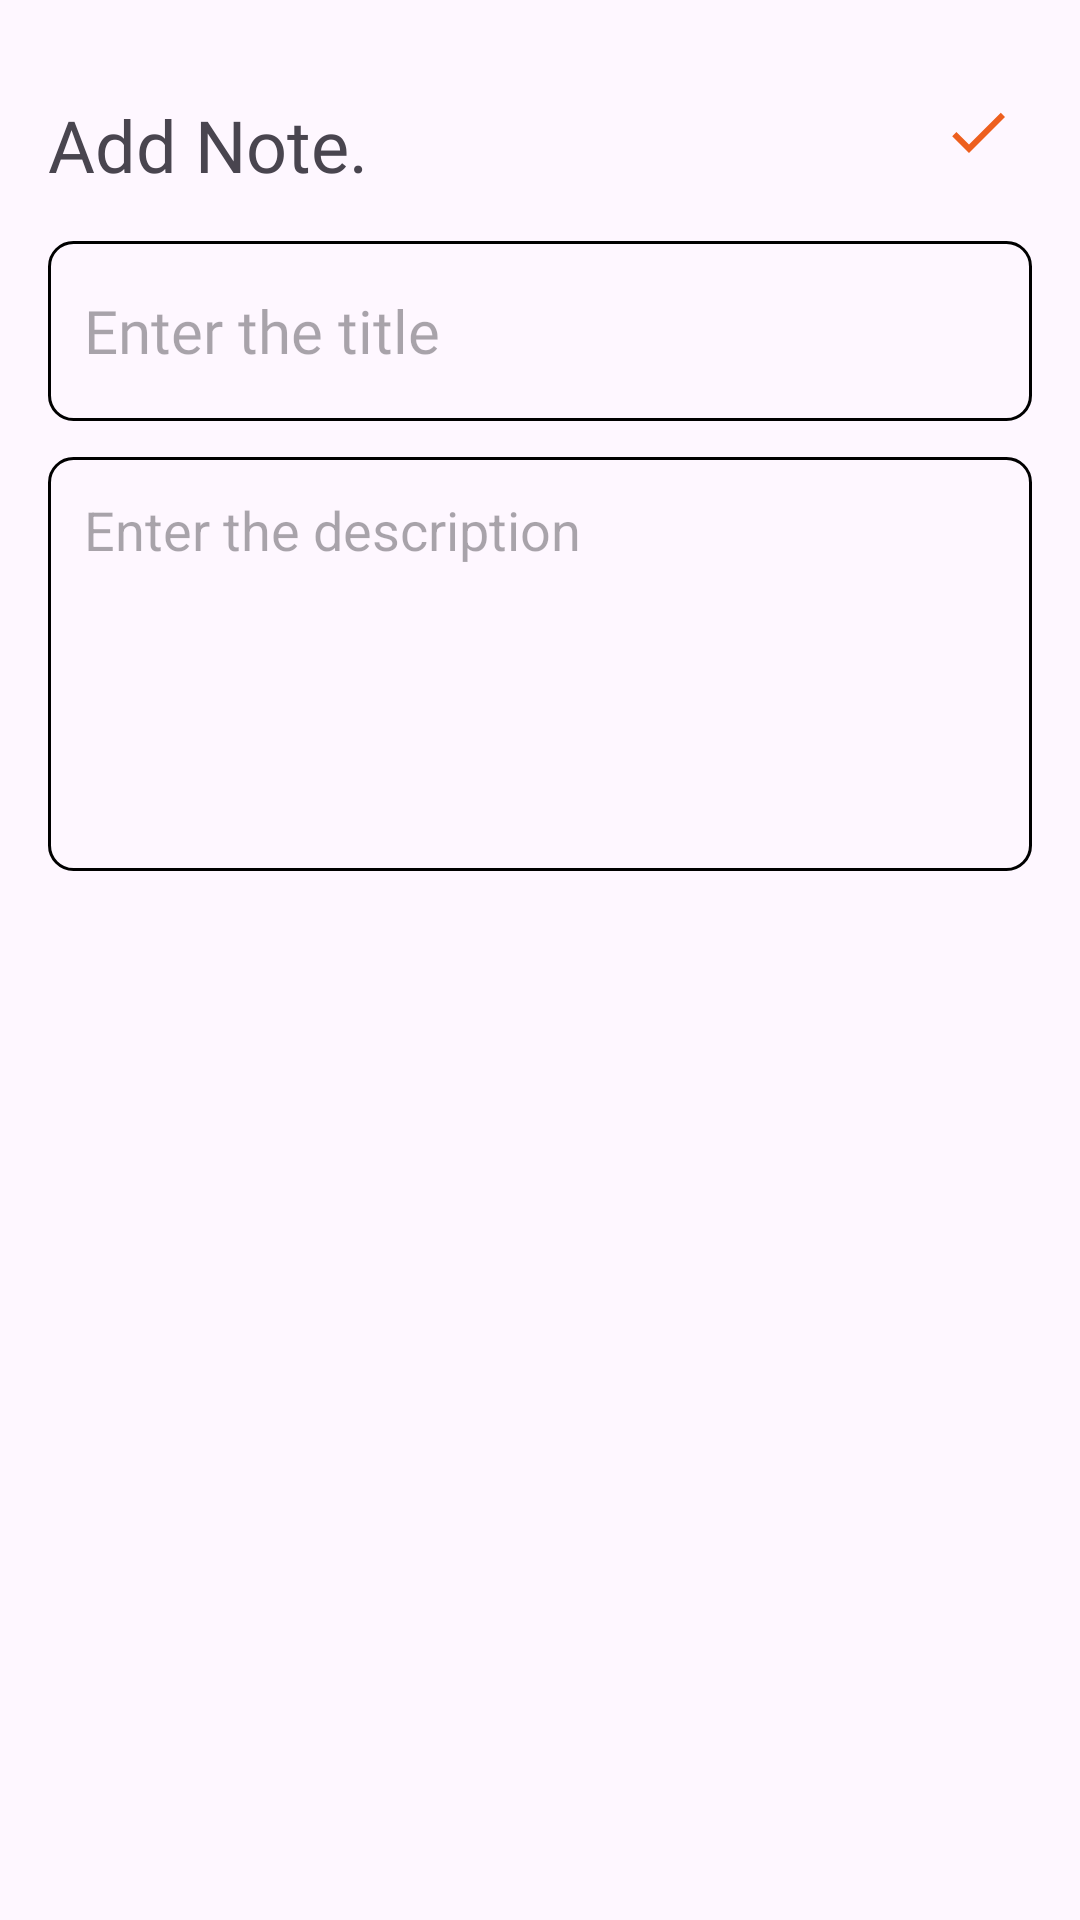

Named icons in this screenshot (1080 × 1920) and their centers, (x=x, y=y):
done: (x=978, y=133)
